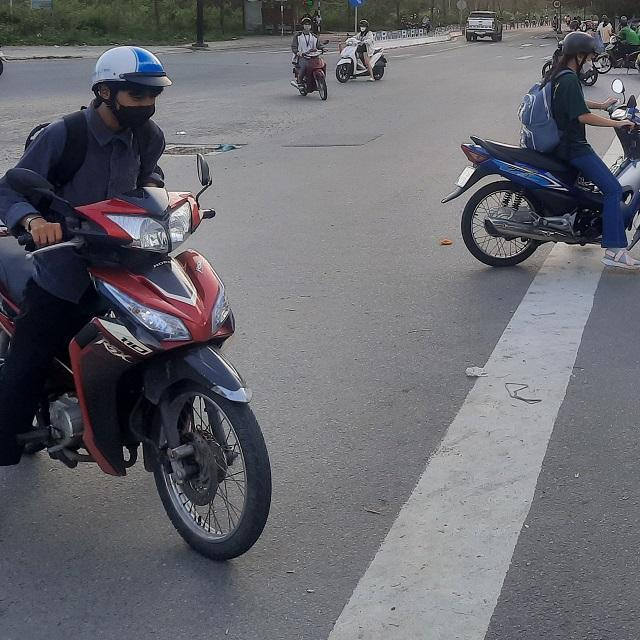Helmet: (86, 43, 170, 129), (560, 31, 602, 77)
